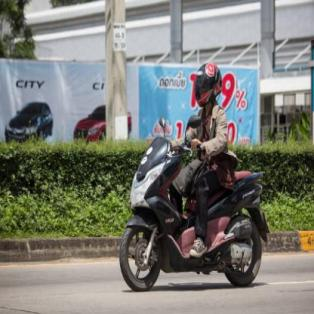Motocicleta: (118, 127, 267, 290)
